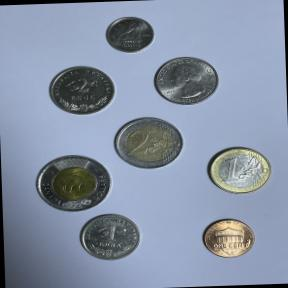coin: (30, 150, 114, 215), (111, 115, 187, 172), (202, 142, 278, 197), (150, 53, 225, 108), (46, 61, 118, 117), (197, 215, 260, 262), (101, 13, 160, 54)
